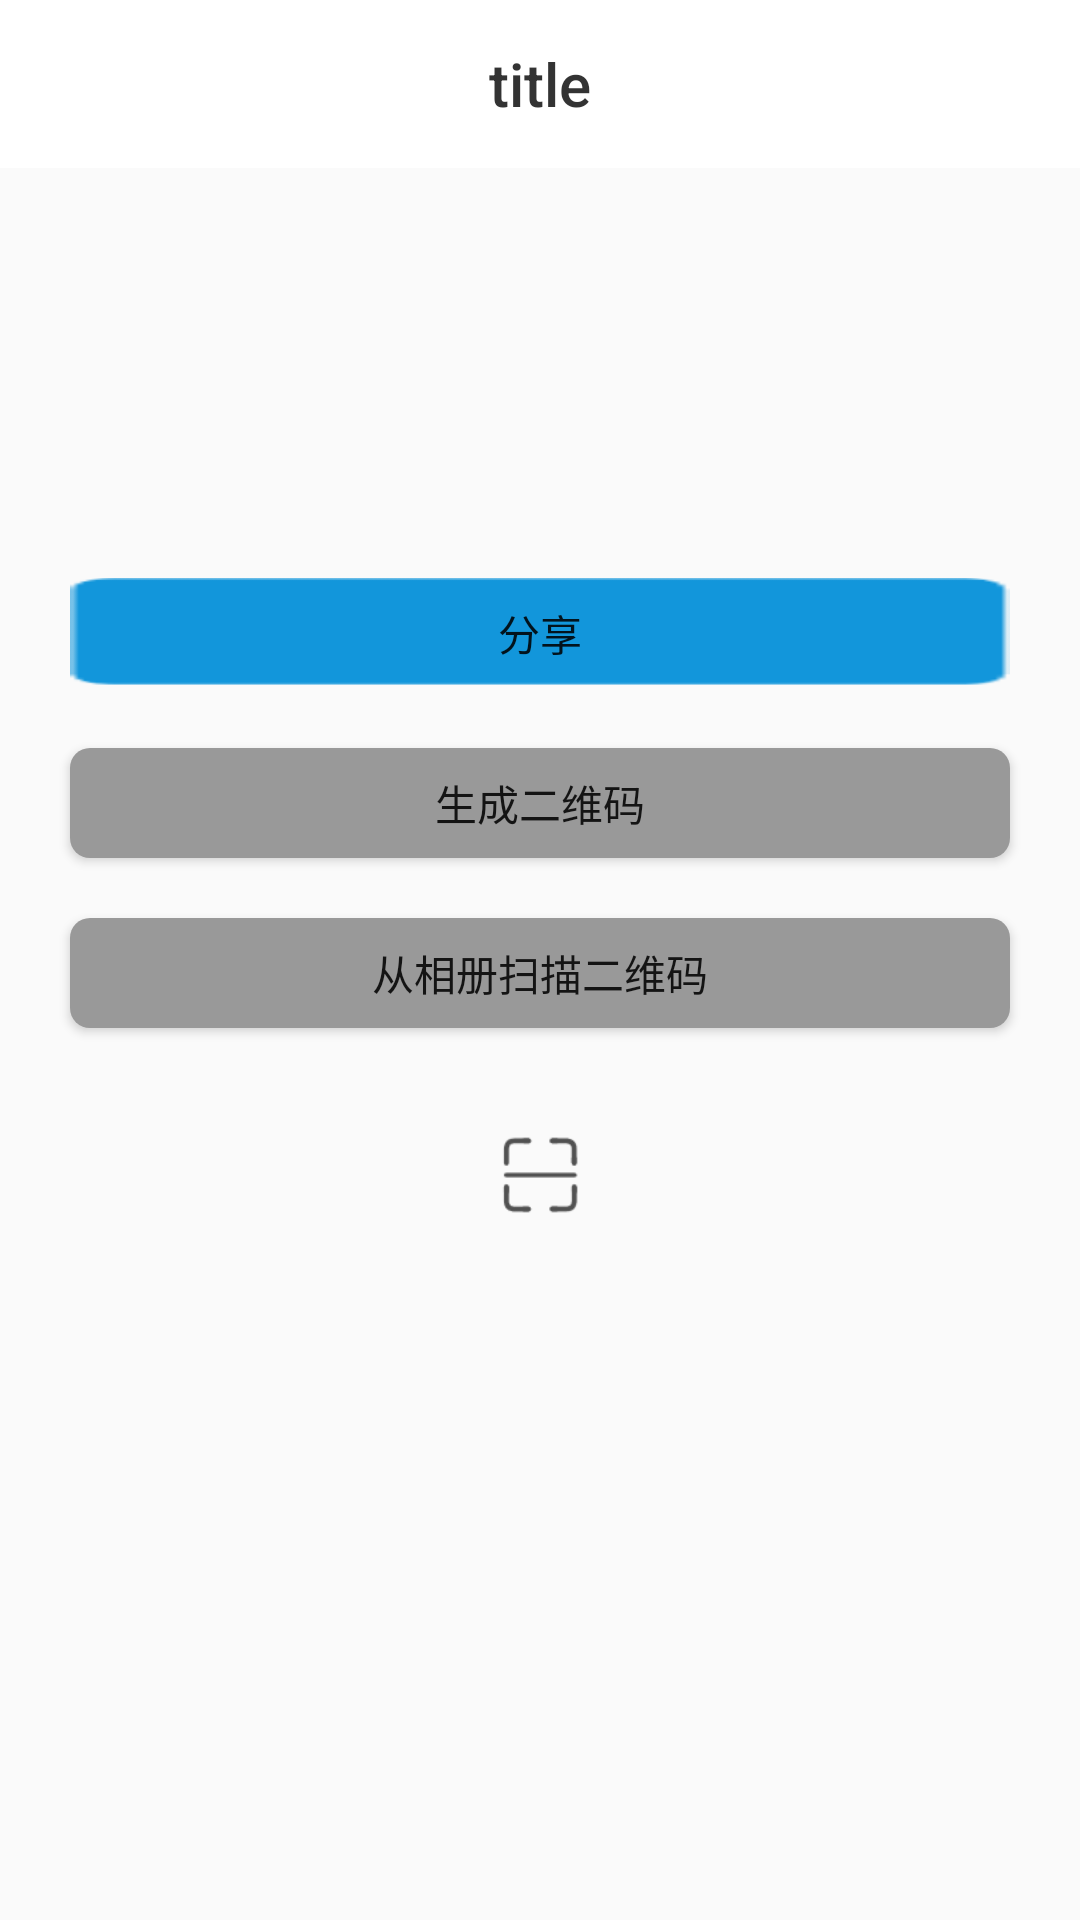

Locate icon controls on the screen. Image size 1080 x 1920, boxes as (x1, y1, x2, y2).
scan: (503, 1137, 578, 1213)
